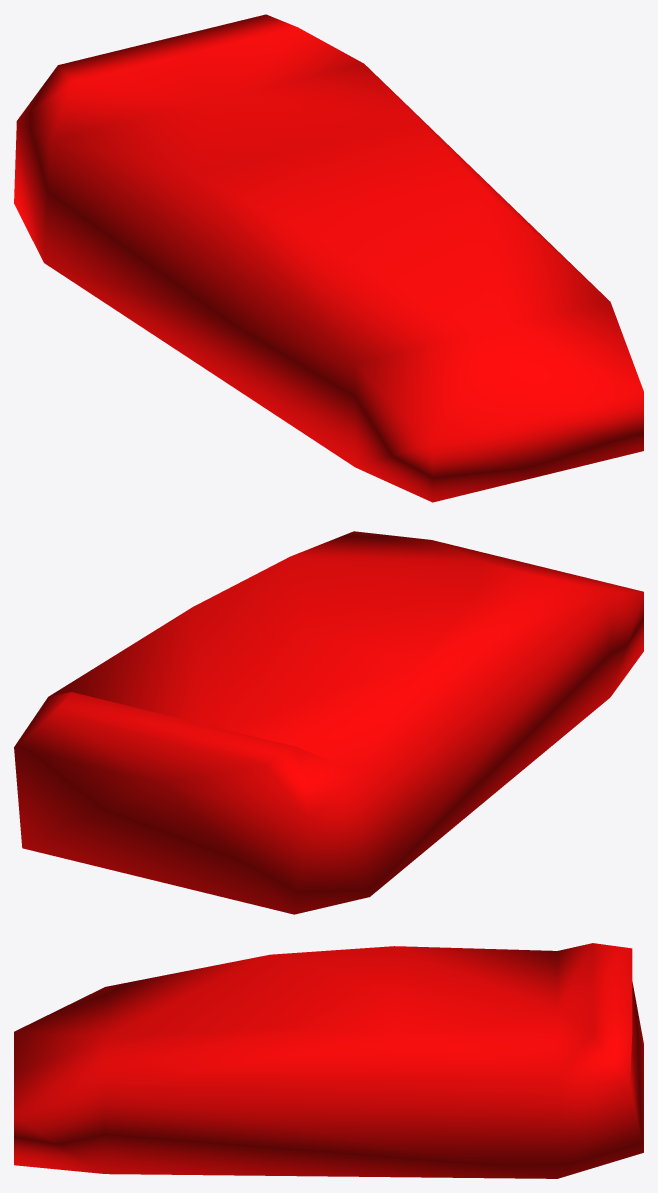
The model's file is car_05_collider.fbx.
3 renders of one model, top to bottom at view 1: azimuth 30°, elevation 25°; view 2: azimuth 150°, elevation 25°; view 3: azimuth 270°, elevation 25°, orthographic. The views are drawn at different scales.
Parts seen in each view (by area): view 1: Mesh; view 2: Mesh; view 3: Mesh.
Part boxes in pixels (left/top/right/bottom): Mesh: left=14, top=14, right=643, bottom=502; Mesh: left=14, top=531, right=643, bottom=914; Mesh: left=14, top=943, right=643, bottom=1178.
Size of the model in its own units: 232 by 111 by 471.
